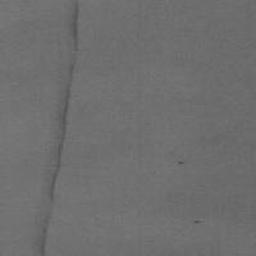Inclusion: (38, 0, 81, 255), (191, 218, 204, 225), (175, 159, 187, 166)
